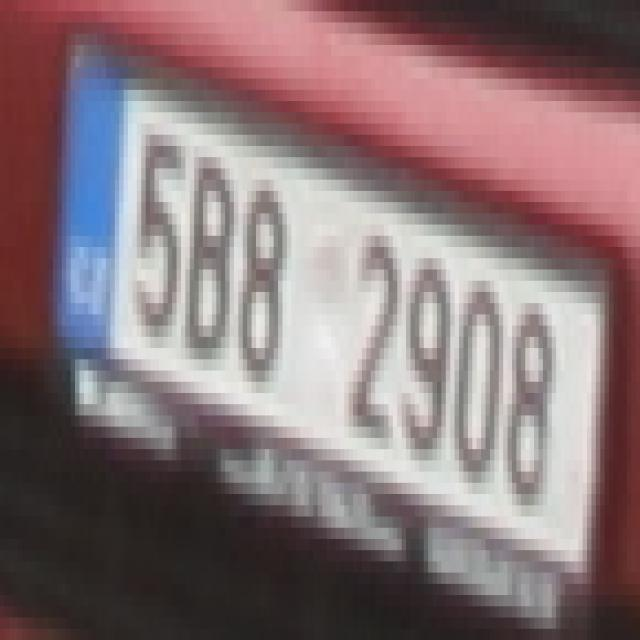0: (455, 247, 503, 460)
2: (340, 214, 393, 461)
5: (132, 124, 181, 326)
8: (238, 168, 287, 382), (503, 281, 552, 483)
9: (397, 236, 446, 460)
B: (181, 146, 229, 348)
